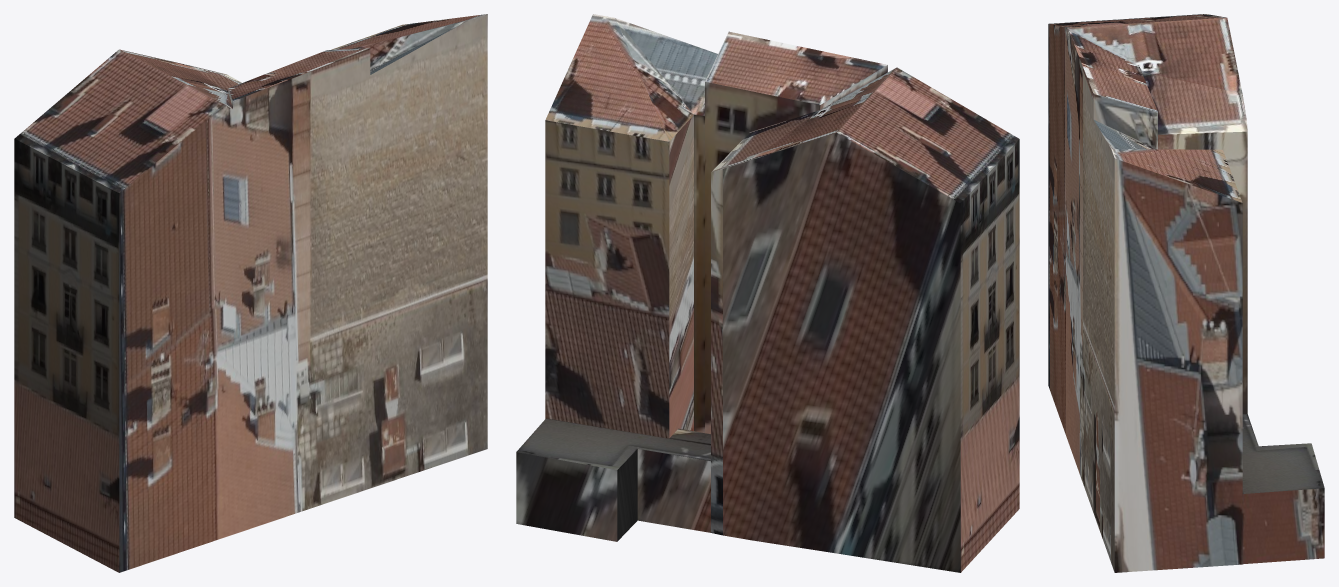
3 views of the same model, side by side, from view 1: azimuth 30°, elevation 25°; view 2: azimuth 150°, elevation 25°; view 3: azimuth 270°, elevation 25° (orthographic). The views are drawn at different scales.
Parts seen in each view (by area): view 1: Z_UP; view 2: Z_UP; view 3: Z_UP.
Boxes of the visible parts, x1=… form: Z_UP: x1=14, y1=14, x2=487, y2=572; Z_UP: x1=516, y1=14, x2=1019, y2=572; Z_UP: x1=1048, y1=14, x2=1324, y2=572.
Size of the model in its own units: 27.19 by 26.9 by 16.07.
2 materials, 1 textured.
